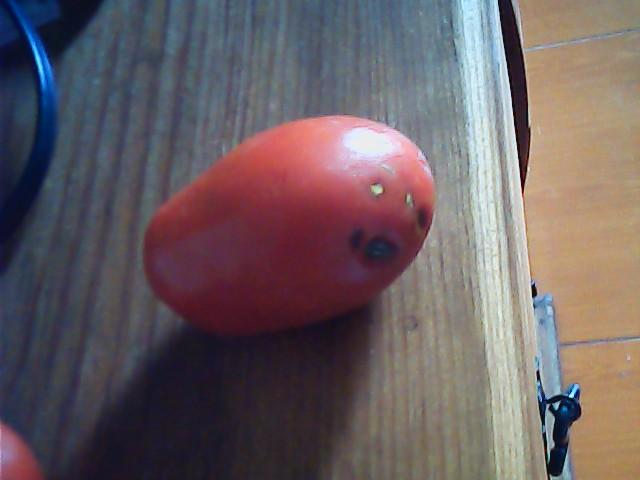defectuoso: (141, 113, 441, 338)
